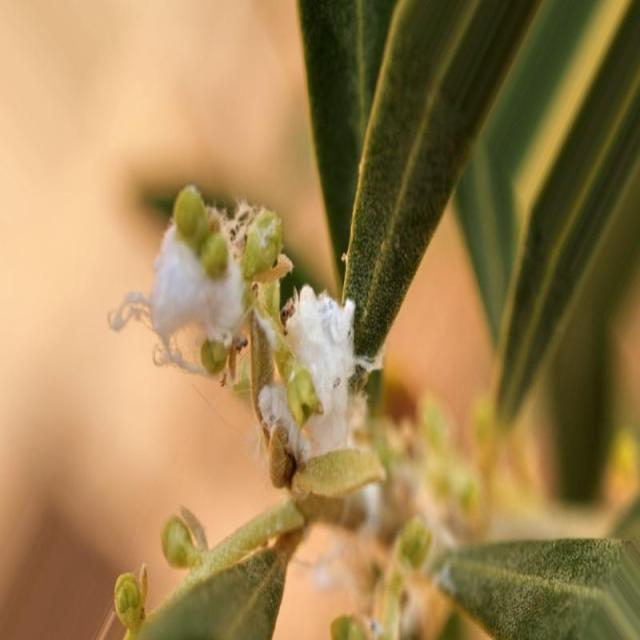Psyllid: (108, 184, 382, 488)
